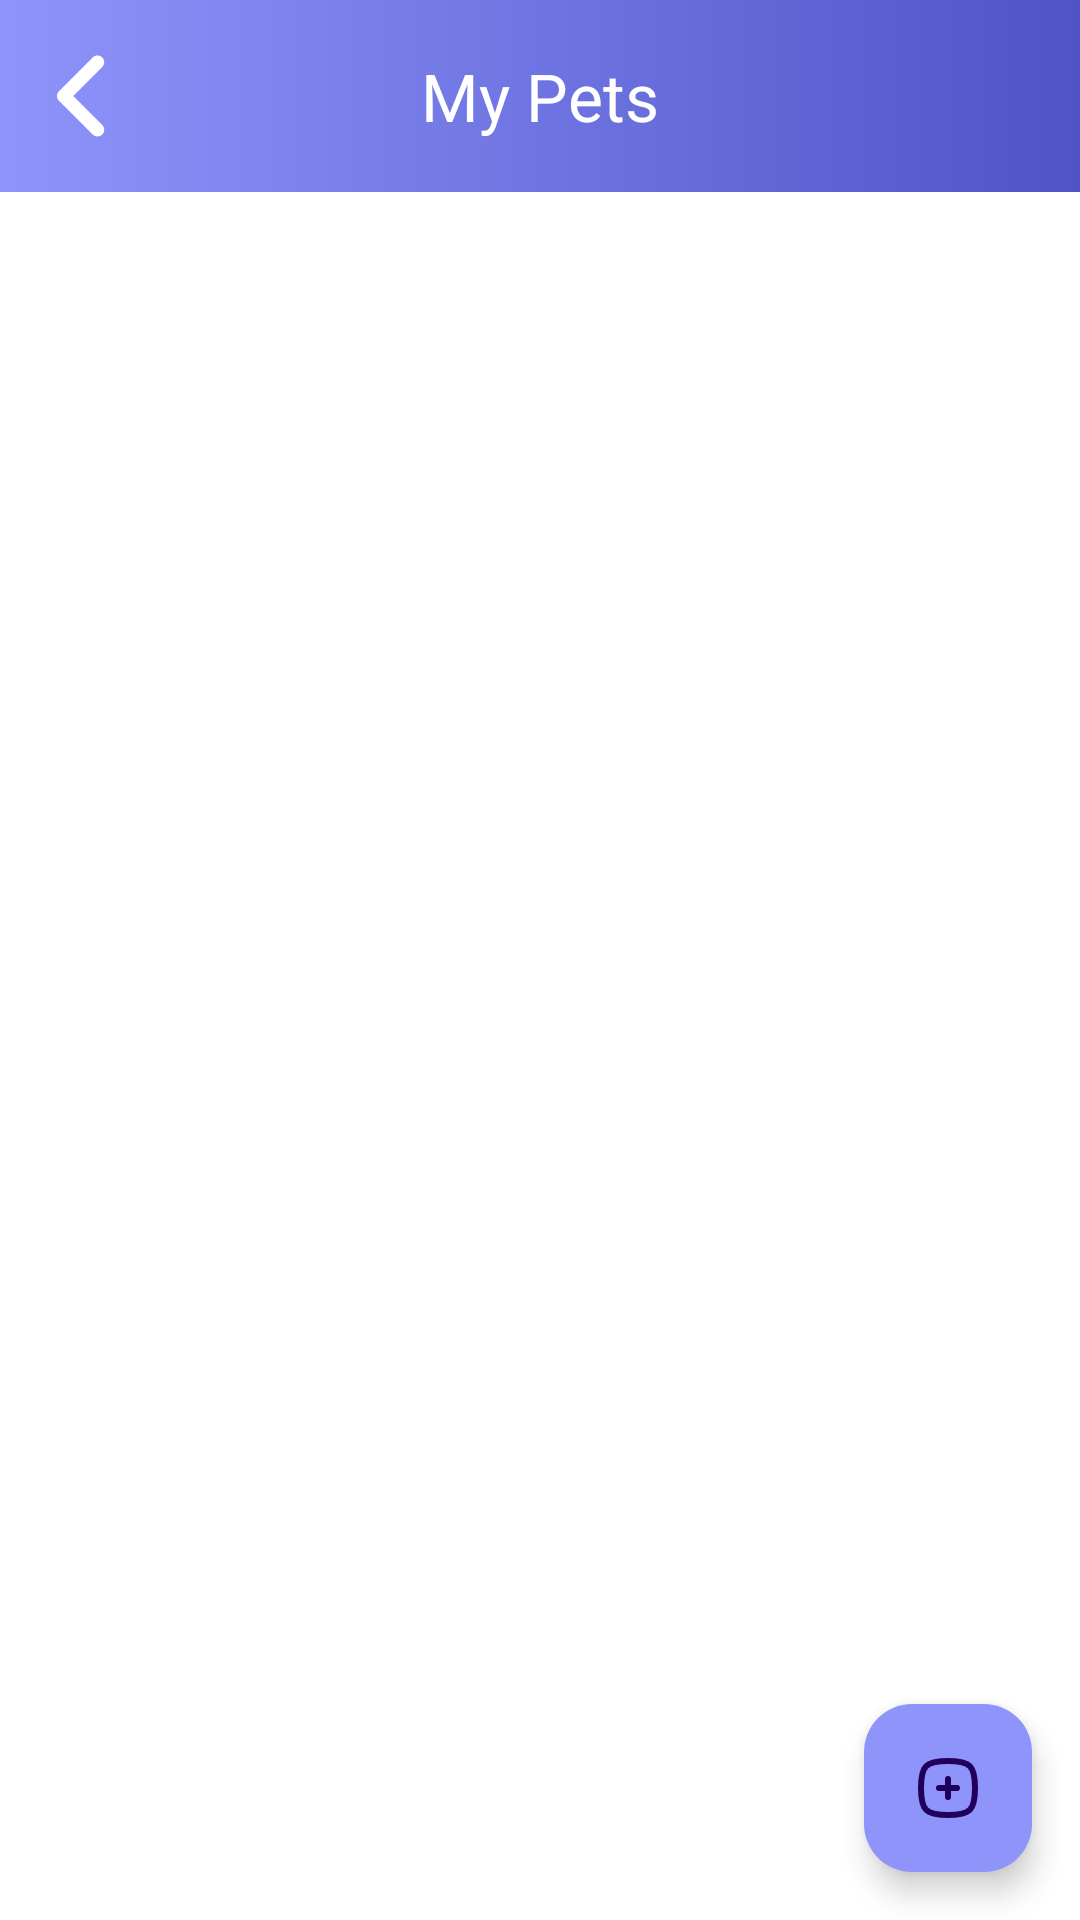

Icon click points for this 1080w x 1920h phone screenshot, format (x,y):
Add Pet: (948,1788)
